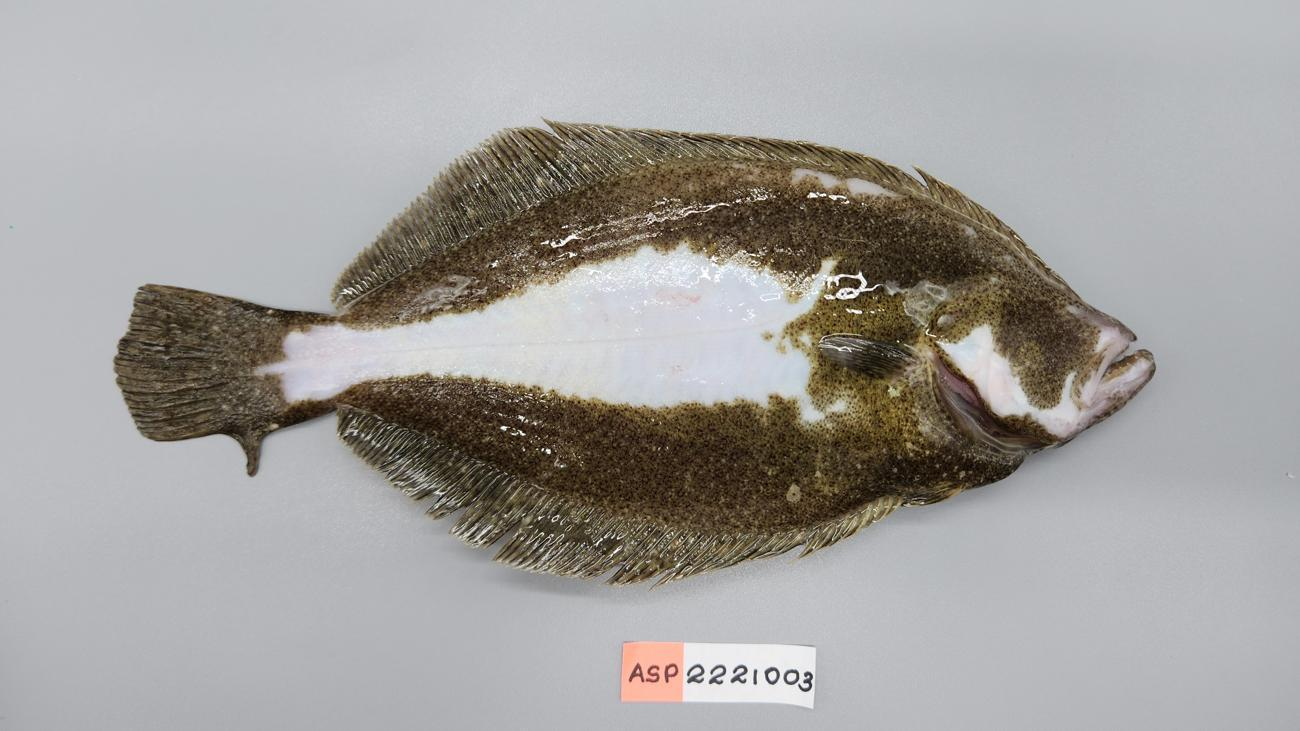SPDYH: (650, 286, 713, 313)
SPOUY: (101, 110, 1164, 602)
